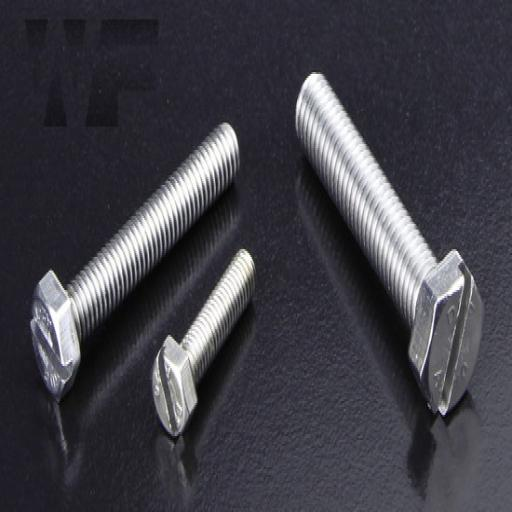Slotted: (411, 248, 481, 425), (27, 278, 78, 393), (152, 332, 198, 438)
